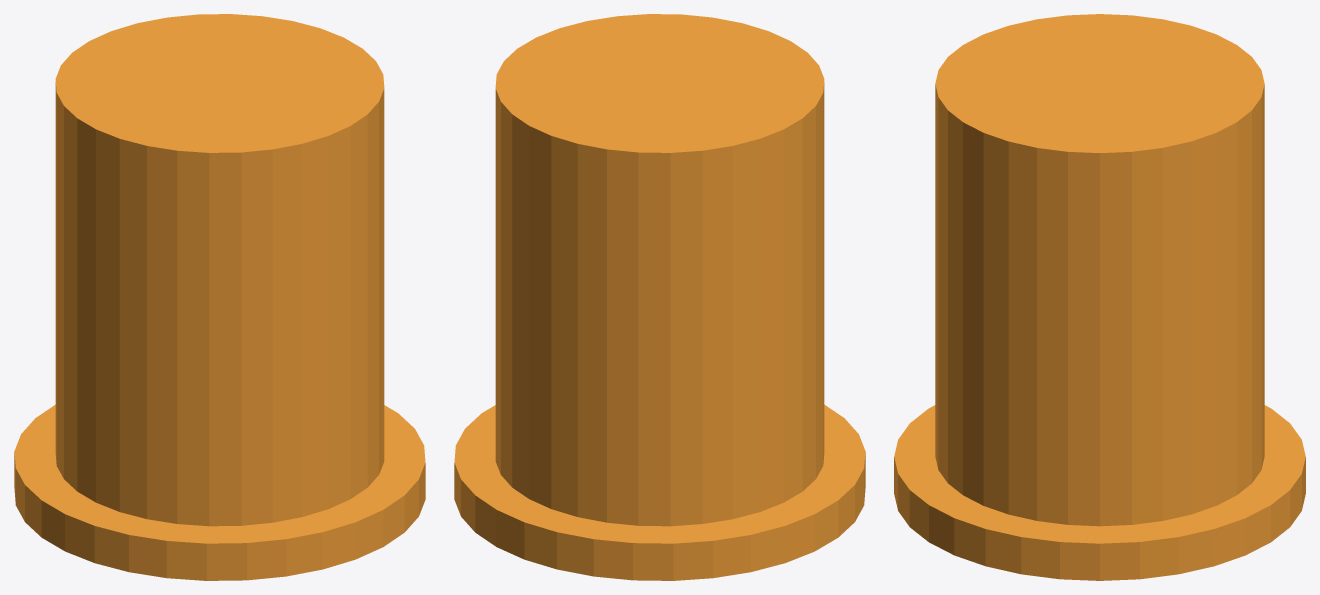
Rendered from hat1.fbx.
3 renders of one model, left to right at view 1: azimuth 30°, elevation 25°; view 2: azimuth 150°, elevation 25°; view 3: azimuth 270°, elevation 25°, orthographic.
Parts seen in each view (by area): view 1: Cylinder.001, Cylinder; view 2: Cylinder.001, Cylinder; view 3: Cylinder.001, Cylinder.
Part boxes in pixels (x1=…): Cylinder.001: x1=55, y1=14, x2=384, y2=526; Cylinder: x1=14, y1=404, x2=425, y2=580; Cylinder.001: x1=495, y1=14, x2=824, y2=526; Cylinder: x1=454, y1=404, x2=865, y2=580; Cylinder.001: x1=935, y1=14, x2=1264, y2=526; Cylinder: x1=894, y1=405, x2=1305, y2=580.
Bounding box in the file's own units: 200 × 220 × 200.
